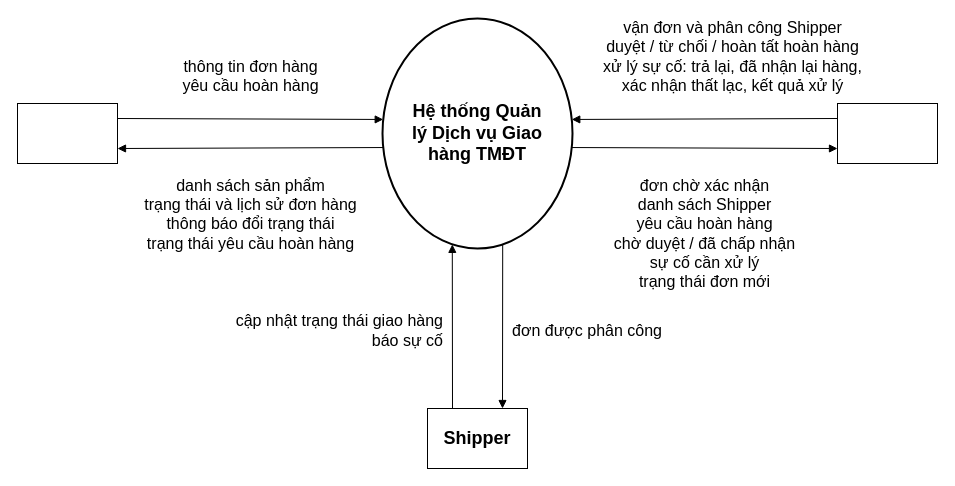
Image size: 955x486. Some labels were removed from this diagram. The shapes that lost their labels are listed below. From the top down, each one's centre as x and y in pixels, then its label:
(x=67, y=133): Customer
(x=887, y=133): Admin
